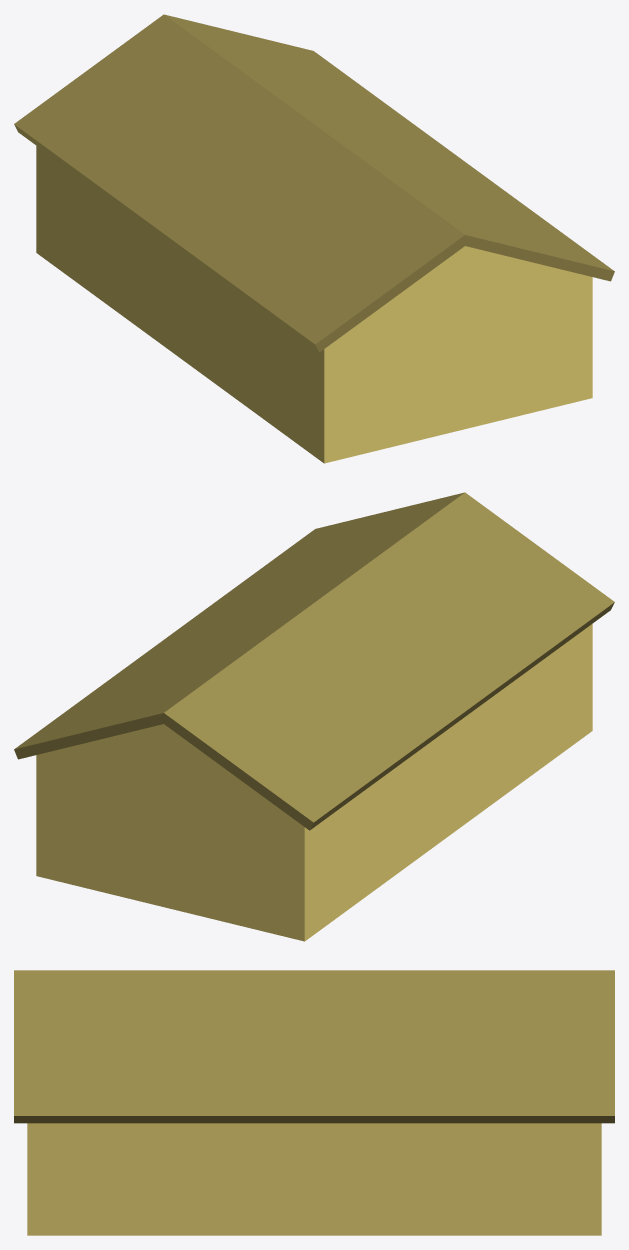
File: result.glb
The picture shows the model from 3 angles, top to bottom: view 1: azimuth 30°, elevation 25°; view 2: azimuth 150°, elevation 25°; view 3: azimuth 270°, elevation 25°; orthographic projection.
Parts seen in each view (by area): view 1: c8d5abee-5697-4101-9f7e-be281f047899__undefined (×2), cb4e9481-0ac0-4eb8-bbdc-a2514794b83f__undefined; view 2: c8d5abee-5697-4101-9f7e-be281f047899__undefined (×2), cb4e9481-0ac0-4eb8-bbdc-a2514794b83f__undefined; view 3: c8d5abee-5697-4101-9f7e-be281f047899__undefined, cb4e9481-0ac0-4eb8-bbdc-a2514794b83f__undefined.
Part boxes in pixels (left/top/right/bottom): c8d5abee-5697-4101-9f7e-be281f047899__undefined (×2): left=14, top=14, right=614, bottom=352; cb4e9481-0ac0-4eb8-bbdc-a2514794b83f__undefined: left=36, top=146, right=592, bottom=463; c8d5abee-5697-4101-9f7e-be281f047899__undefined (×2): left=14, top=492, right=614, bottom=830; cb4e9481-0ac0-4eb8-bbdc-a2514794b83f__undefined: left=36, top=624, right=592, bottom=941; c8d5abee-5697-4101-9f7e-be281f047899__undefined: left=14, top=970, right=614, bottom=1123; cb4e9481-0ac0-4eb8-bbdc-a2514794b83f__undefined: left=27, top=1123, right=601, bottom=1235.
Size of the model in its own units: 781 by 500 by 1360.
